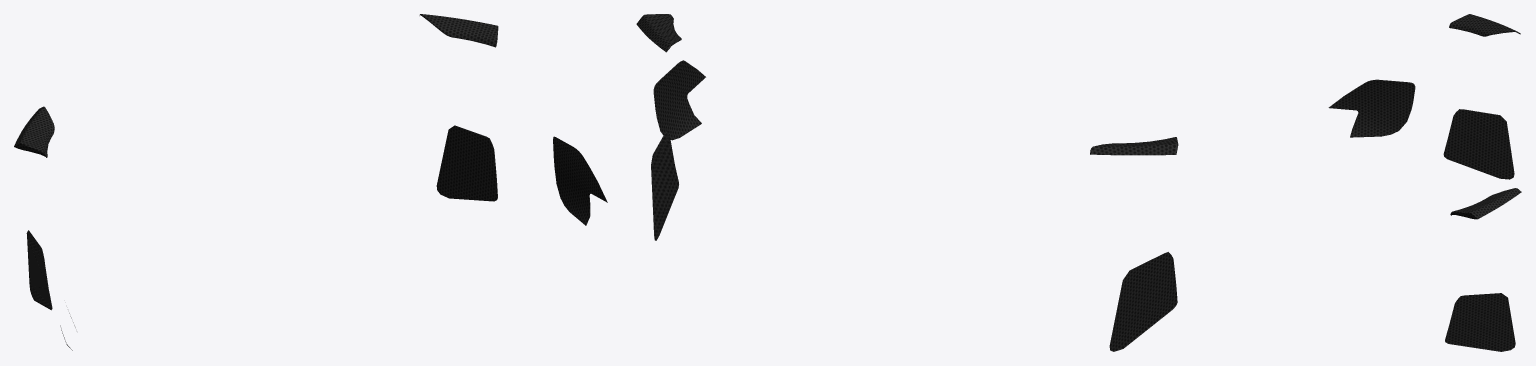
Rendered from Grille2.obj.
3 views of the same model, side by side, from view 1: azimuth 30°, elevation 25°; view 2: azimuth 150°, elevation 25°; view 3: azimuth 270°, elevation 25° (orthographic). The views are drawn at different scales.
Parts seen in each view (by area): view 1: p:Kit1_Grille2_Geo_lodA_Kit1_Grille2_Geo_lodA_Porsche_918SpyderR; view 2: p:Kit1_Grille2_Geo_lodA_Kit1_Grille2_Geo_lodA_Porsche_918SpyderR; view 3: p:Kit1_Grille2_Geo_lodA_Kit1_Grille2_Geo_lodA_Porsche_918SpyderR.
Part boxes in pixels (x1,y1,x2,y2): p:Kit1_Grille2_Geo_lodA_Kit1_Grille2_Geo_lodA_Porsche_918SpyderR: (14,14,607,350); p:Kit1_Grille2_Geo_lodA_Kit1_Grille2_Geo_lodA_Porsche_918SpyderR: (636,14,1178,351); p:Kit1_Grille2_Geo_lodA_Kit1_Grille2_Geo_lodA_Porsche_918SpyderR: (1328,14,1521,351).
Bounding box in the file's own units: 2.14 × 0.7041 × 0.7929.
